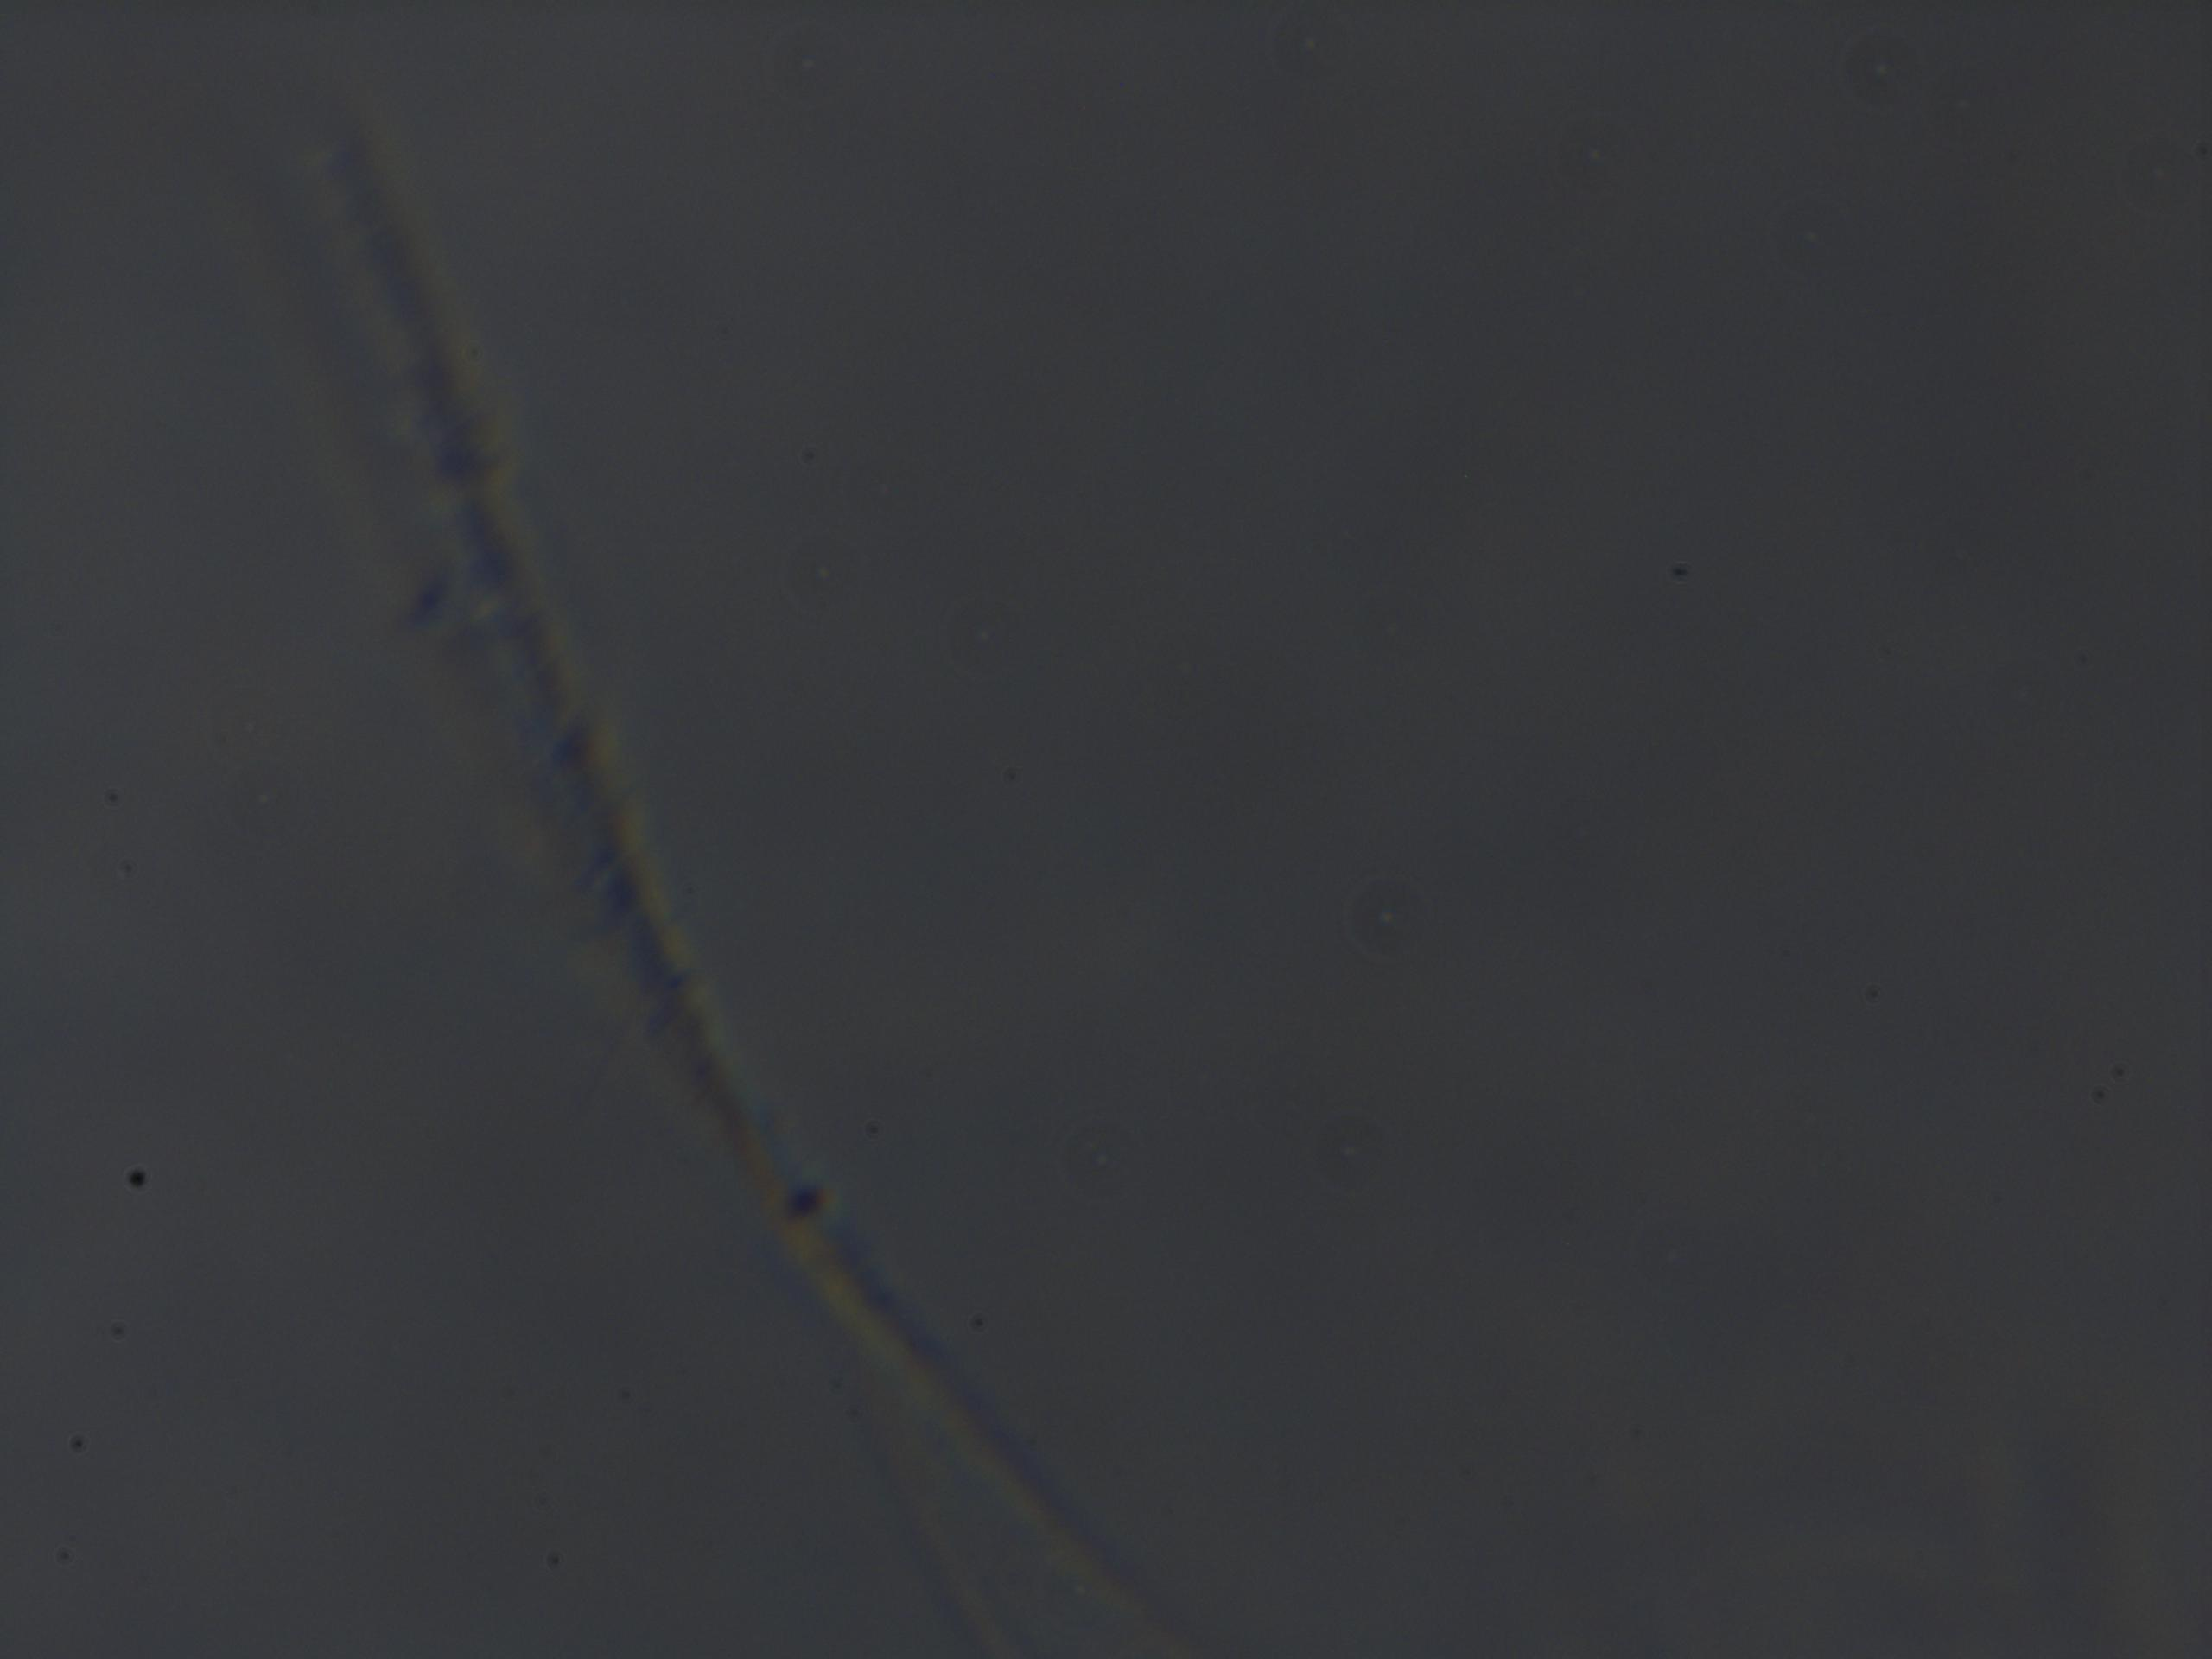filament: (275, 38, 1242, 1640)
